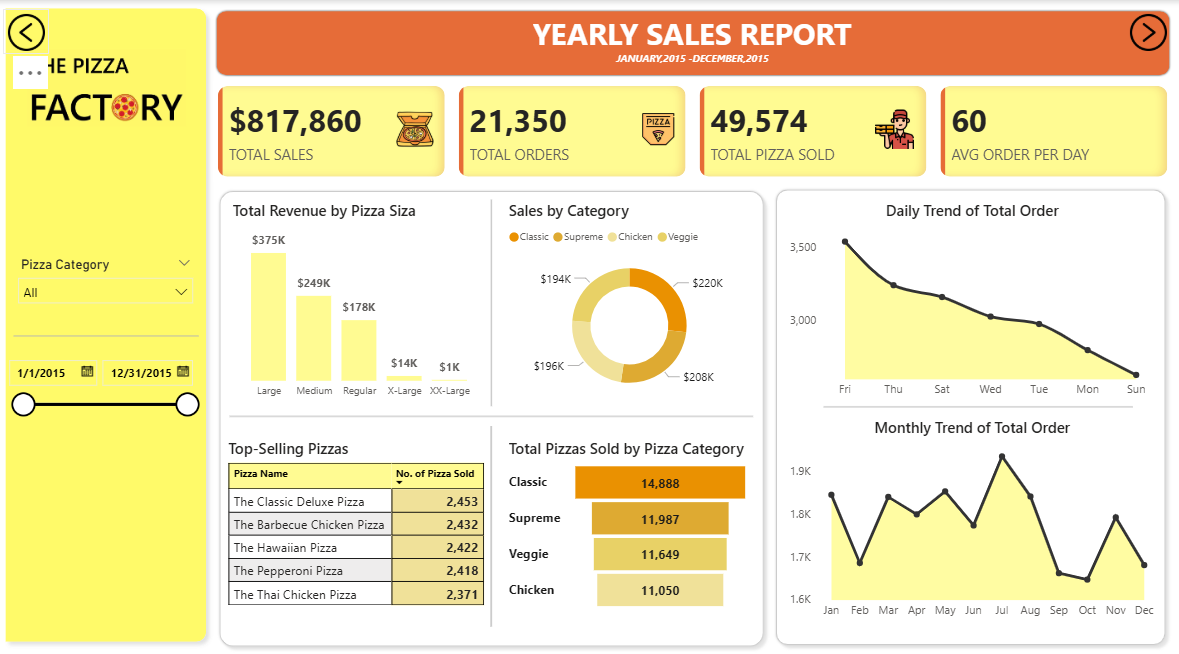

The dashboard page shown, as its layout file describes it:
{"tool":"powerbi","page":{"name":"Analysis","canvas":[1280,720],"ordinal":1},"visuals":[{"type":"shape","box":[235.3,8.9,1033.2,73.7],"z":0},{"type":"shape","box":[232.9,198.6,601.4,505.7],"z":1000},{"type":"shape","box":[834.3,197.1,434.3,505.7],"z":2000},{"type":"shape","box":[0,0,235,701.7],"z":3000},{"type":"image","box":[14,47,208,94],"z":4000},{"type":"cardVisual","fields":{"Data":["All measures.Total Revenue","All measures.Total Orders","All measures.Total Pizzas Sold","All measures.AVG ORDER PER DAY"]},"box":[232.9,87.1,1037.1,108.6],"z":5000},{"type":"areaChart","title":"Daily Trend of Total Order","fields":{"Y":["All measures.Total Orders"],"Category":["Calender.Day_name"]},"box":[850.9,215.8,405.3,222.8],"z":6000},{"type":"areaChart","title":"Monthly Trend of Total Order","fields":{"Y":["All measures.Total Orders"],"Category":["Calender.Month_name"]},"box":[850.9,450.9,405.3,226.3],"z":7000},{"type":"funnel","title":"Total Pizzas Sold by Pizza Category","fields":{"Category":["pizza_sales (2).pizza_category"],"Y":["All measures.Total Pizzas Sold"]},"box":[546.7,473.3,270,190],"z":8000},{"type":"shape","box":[892.9,417.1,334.3,42.9],"z":9000},{"type":"shape","box":[250.7,438.7,565.3,21.3],"z":10000},{"type":"shape","box":[521.1,215.8,24.2,223.2],"z":11000},{"type":"shape","box":[521.1,460,24.2,216.8],"z":12000},{"type":"donutChart","title":"Sales by Category","fields":{"Category":["pizza_sales (2).pizza_category"],"Y":["All measures.Total Revenue"]},"box":[546.7,215,270,223.3],"z":13000},{"type":"clusteredColumnChart","title":"Total Revenue by Pizza Siza","fields":{"Category":["pizza_sales (2).pizza_size"],"Y":["All measures.Total Revenue"]},"box":[250,215,283.3,223.3],"z":14000},{"type":"pivotTable","title":"Top-Selling Pizzas","fields":{"Rows":["pizza_sales (2).pizza_name"],"Values":["All measures.Total Pizzas Sold"]},"box":[244,473.3,289.3,215.3],"z":15000},{"type":"slicer","fields":{"Values":["pizza_sales (2).pizza_category"]},"box":[13.3,271.7,208.3,80],"z":16000},{"type":"textbox","box":[573.3,8.3,377.5,55.8],"z":17000},{"type":"textbox","box":[581.1,47.2,338.9,28.9],"z":18000},{"type":"slicer","fields":{"Values":["pizza_sales (2).order_date"]},"box":[0,378.3,226.7,81.7],"z":19000},{"type":"shape","box":[17.5,351.2,200,22.5],"z":20000},{"type":"image","box":[7.3,9.1,50,50],"z":21000},{"type":"image","box":[1217.5,9,50,50],"z":22000}]}

Visuals, with their boxes in screenshot pixels (x1, y1, x2, y2), scaled from the page's 1280x720 canvas onto the 1179x654 screenshot:
shape: Rect(217, 8, 1168, 75)
shape: Rect(215, 180, 768, 640)
shape: Rect(768, 179, 1168, 638)
shape: Rect(0, 0, 216, 637)
image: Rect(13, 43, 204, 128)
cardVisual - All measures.Total Revenue x All measures.Total Orders: Rect(215, 79, 1170, 178)
"Daily Trend of Total Order" areaChart: Rect(784, 196, 1157, 398)
"Monthly Trend of Total Order" areaChart: Rect(784, 410, 1157, 615)
"Total Pizzas Sold by Pizza Category" funnel: Rect(504, 430, 752, 602)
shape: Rect(822, 379, 1130, 418)
shape: Rect(231, 398, 752, 418)
shape: Rect(480, 196, 502, 399)
shape: Rect(480, 418, 502, 615)
"Sales by Category" donutChart: Rect(504, 195, 752, 398)
"Total Revenue by Pizza Siza" clusteredColumnChart: Rect(230, 195, 491, 398)
"Top-Selling Pizzas" pivotTable: Rect(225, 430, 491, 625)
slicer - pizza_sales (2).pizza_category: Rect(12, 247, 204, 319)
textbox: Rect(528, 8, 876, 58)
textbox: Rect(535, 43, 847, 69)
slicer - pizza_sales (2).order_date: Rect(0, 344, 209, 418)
shape: Rect(16, 319, 200, 339)
image: Rect(7, 8, 53, 54)
image: Rect(1121, 8, 1167, 54)
